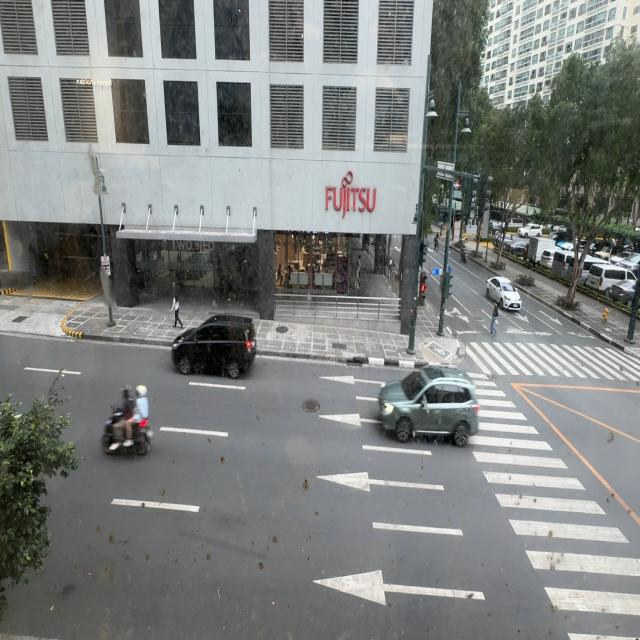jaywalking: (489, 299, 499, 336)
